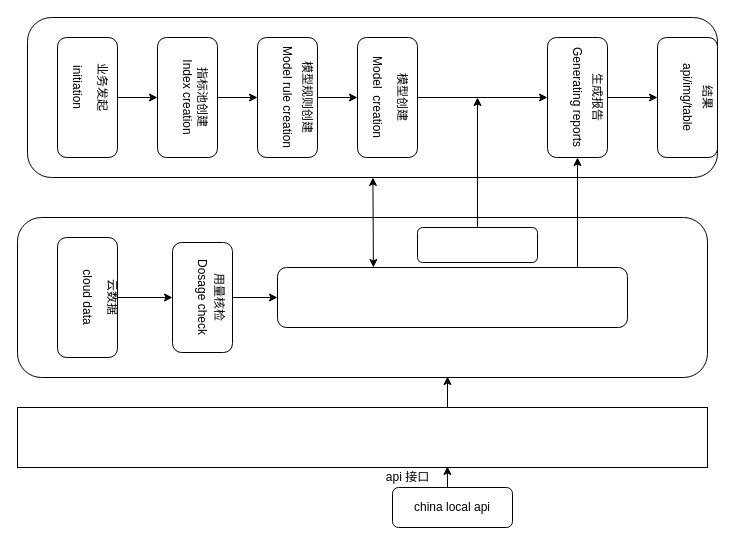
Image size: 735x545. Some labels were removed from this diagram. The shapes that lost their labels are listed below. From the top down, each one's centre as x and y in pixels, then its label:
point 477,244: 上传数据 upload data
point 452,297: 调用流程 Call process
point 362,437: 网关 gateway
